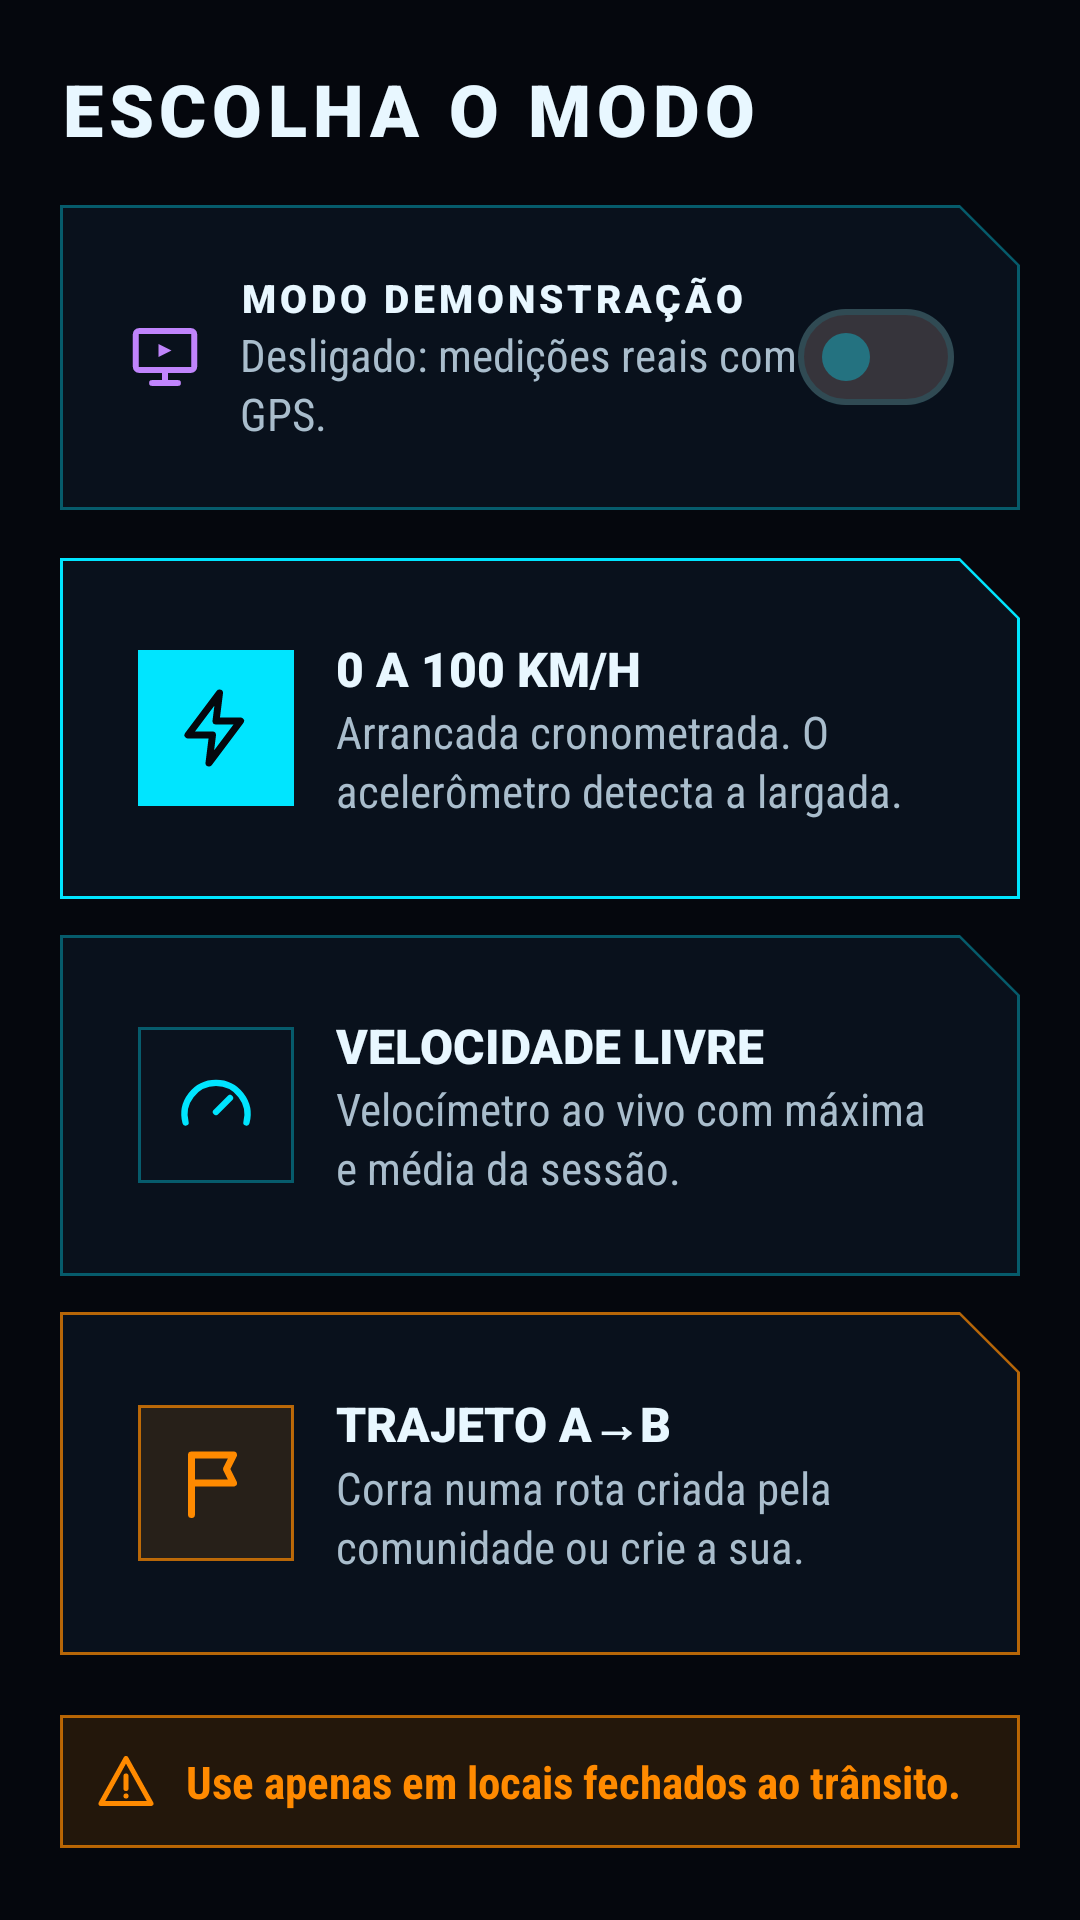

Screen size 1080*1920. Icon name, then its box in pixels as box(x1, y1, x2, y2):
alerta: box(98, 1756, 154, 1806)
bandeira: box(138, 1405, 294, 1561)
raio: box(138, 650, 294, 806)
